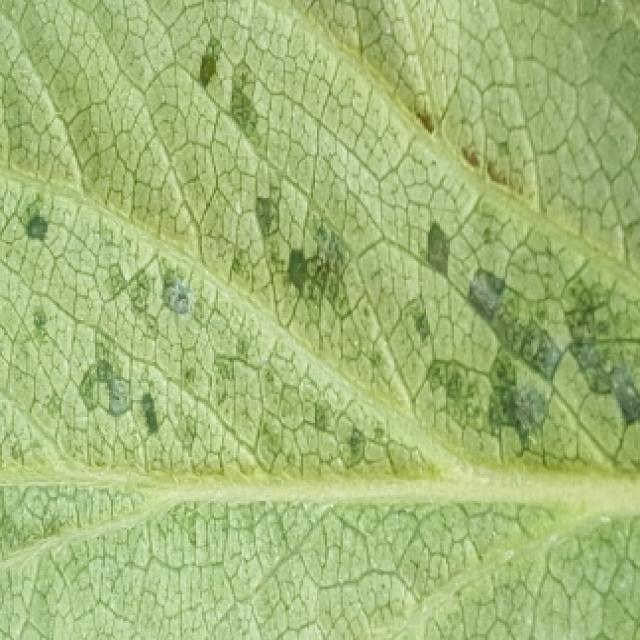Angular Leafspot: (0, 27, 640, 577)
